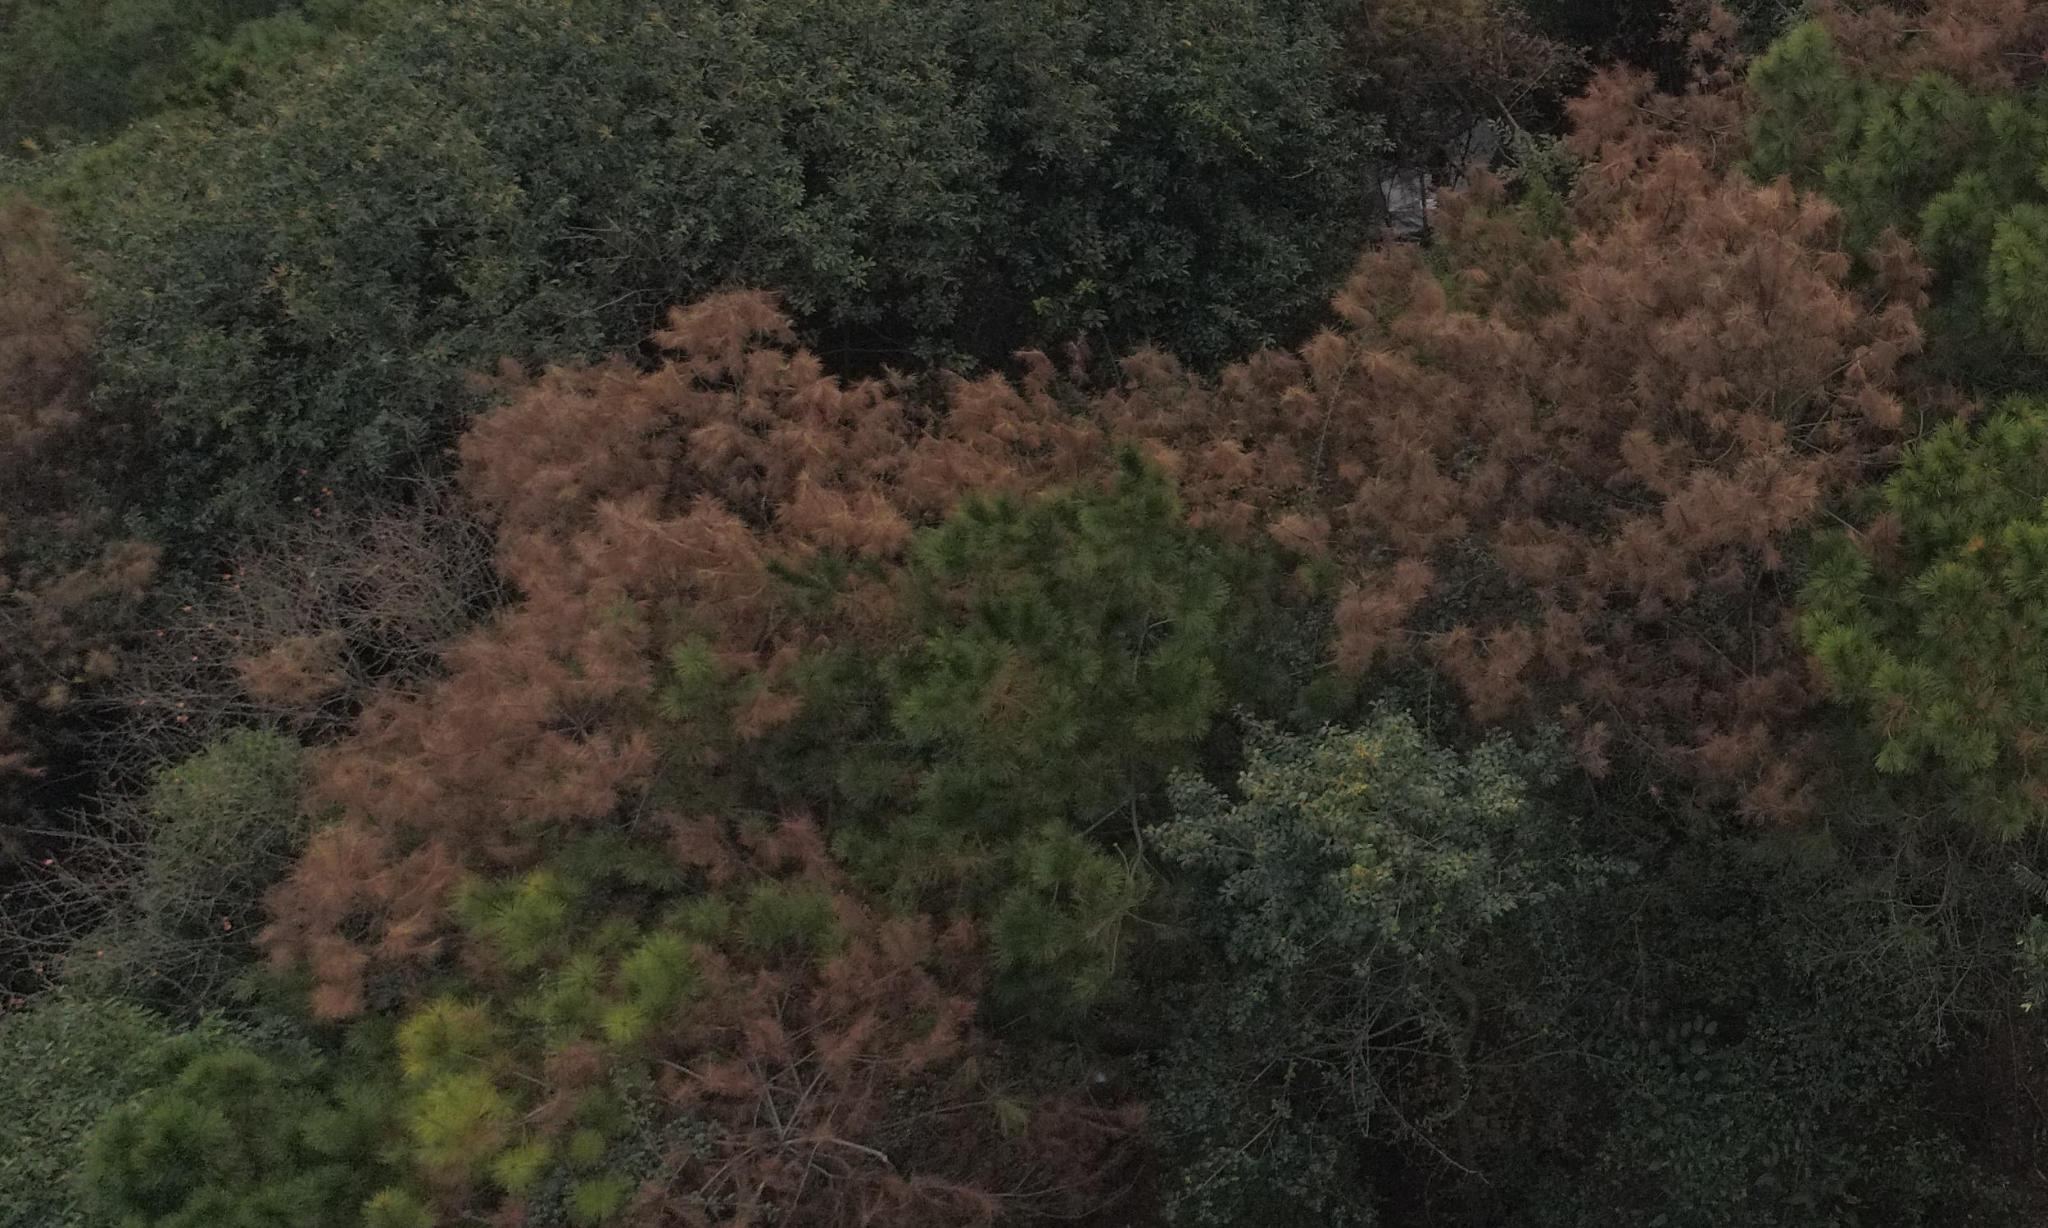heavy: (957, 66, 1984, 792), (320, 335, 922, 1134), (0, 158, 249, 827)
